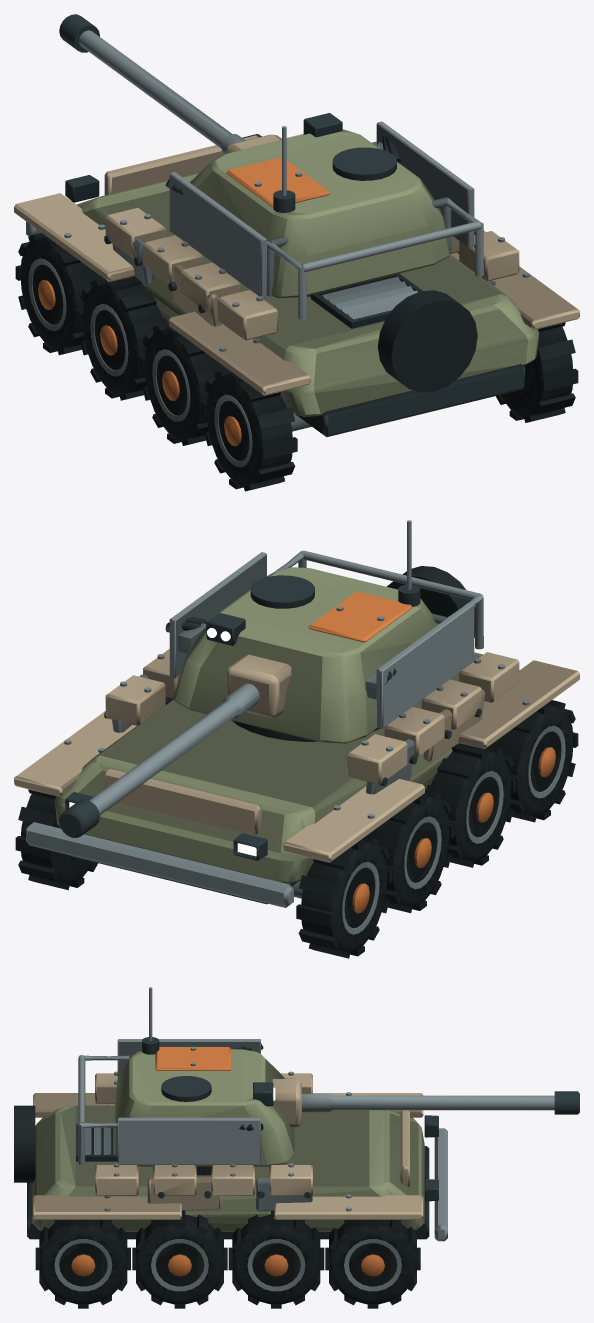
Rendered from Ironback.glb.
3 renders of one model, top to bottom at view 1: azimuth 30°, elevation 25°; view 2: azimuth 150°, elevation 25°; view 3: azimuth 270°, elevation 25°, orthographic. The views are drawn at different scales.
Parts seen in each view (by area): view 1: export_Ironback_Axle, export_Ironback_SalvagedTurret, export_Ironback_Wheel_-1.30_-1.49_Tire, export_Ironback_Wheel_-1.30_0.50_Tire, export_Ironback_Wheel_-1.30_-0.50_Tire, export_Ironback_Wheel_-1.30_1.49_Tire, export_Ironback_Mantlet, export_Ironback_Wheel_1.30_-1.49_Tire, export_Ironback_SalvagePlate2, export_Ironback_SalvagePlate1; view 2: export_Ironback_Axle, export_Ironback_SalvagedTurret, export_Ironback_Wheel_-1.30_1.49_Tire, export_Ironback_Mantlet, export_Ironback_Wheel_-1.30_-0.50_Tire, export_Ironback_Wheel_-1.30_-1.49_Tire, export_Ironback_Wheel_-1.30_0.50_Tire, export_Ironback_SalvagePlate2, export_Ironback_Wheel_1.30_1.49_Tire, export_Ironback_SalvagePlate1; view 3: export_Ironback_Axle, export_Ironback_SalvagedTurret, export_Ironback_Wheel_1.30_0.50_Tire, export_Ironback_Wheel_1.30_-0.50_Tire, export_Ironback_Wheel_1.30_-1.49_Tire, export_Ironback_Wheel_1.30_1.49_Tire, export_Ironback_Mantlet, export_Ironback_SalvagePlate2, export_Ironback_SalvagePlate1.
Part boxes in pixels (x1,y1,x2,y2): export_Ironback_Axle: (14,134,579,437); export_Ironback_SalvagedTurret: (165,113,483,319); export_Ironback_Wheel_-1.30_-1.49_Tire: (202,369,297,491); export_Ironback_Wheel_-1.30_0.50_Tire: (78,276,167,400); export_Ironback_Wheel_-1.30_-0.50_Tire: (140,323,227,445); export_Ironback_Wheel_-1.30_1.49_Tire: (15,233,103,355); export_Ironback_Mantlet: (59,14,281,153); export_Ironback_Wheel_1.30_-1.49_Tire: (496,322,578,422); export_Ironback_SalvagePlate2: (104,135,258,285); export_Ironback_SalvagePlate1: (168,230,484,326); export_Ironback_Axle: (14,566,579,907); export_Ironback_SalvagedTurret: (165,550,483,743); export_Ironback_Wheel_-1.30_1.49_Tire: (296,836,391,958); export_Ironback_Mantlet: (59,654,291,837); export_Ironback_Wheel_-1.30_-0.50_Tire: (426,743,515,867); export_Ironback_Wheel_-1.30_-1.49_Tire: (490,700,578,822); export_Ironback_Wheel_-1.30_0.50_Tire: (366,790,453,913); export_Ironback_SalvagePlate2: (104,674,417,835); export_Ironback_Wheel_1.30_1.49_Tire: (15,789,97,890); export_Ironback_SalvagePlate1: (423,689,485,761); export_Ironback_Axle: (14,1071,447,1241); export_Ironback_SalvagedTurret: (78,1037,294,1166); export_Ironback_Wheel_1.30_0.50_Tire: (228,1211,324,1308); export_Ironback_Wheel_1.30_-0.50_Tire: (132,1210,227,1308); export_Ironback_Wheel_1.30_-1.49_Tire: (35,1220,130,1308); export_Ironback_Wheel_1.30_1.49_Tire: (325,1220,420,1308); export_Ironback_Mantlet: (272,1078,579,1127); export_Ironback_SalvagePlate2: (256,1110,409,1211); export_Ironback_SalvagePlate1: (147,1177,221,1210).
Size of the model in its own units: 2.98 by 2.7 by 5.84.
